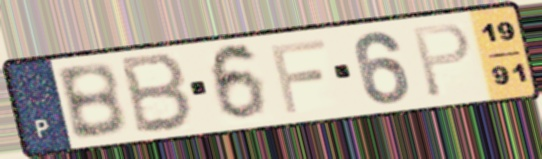6: (205, 41, 272, 127), (350, 28, 412, 107)
B: (119, 50, 196, 138), (51, 59, 131, 143)
F: (266, 36, 330, 116)
P: (409, 20, 474, 101)
